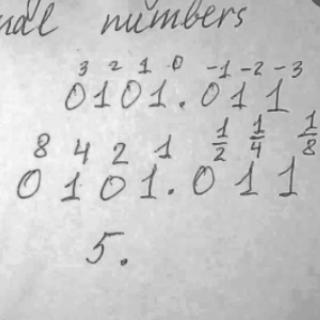.: (117, 255, 131, 267)
0: (15, 166, 44, 200), (189, 164, 216, 199), (62, 78, 86, 111)
1: (234, 160, 262, 199), (93, 77, 114, 109), (176, 97, 188, 114)
2: (252, 56, 266, 78), (108, 54, 124, 73)
3: (291, 57, 306, 80), (75, 58, 91, 77)
4: (69, 139, 94, 167)
5: (78, 230, 121, 264)
